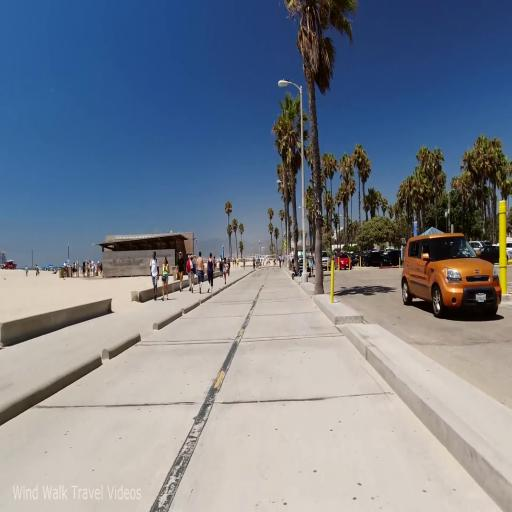Street_Light: (276, 75, 309, 287)
